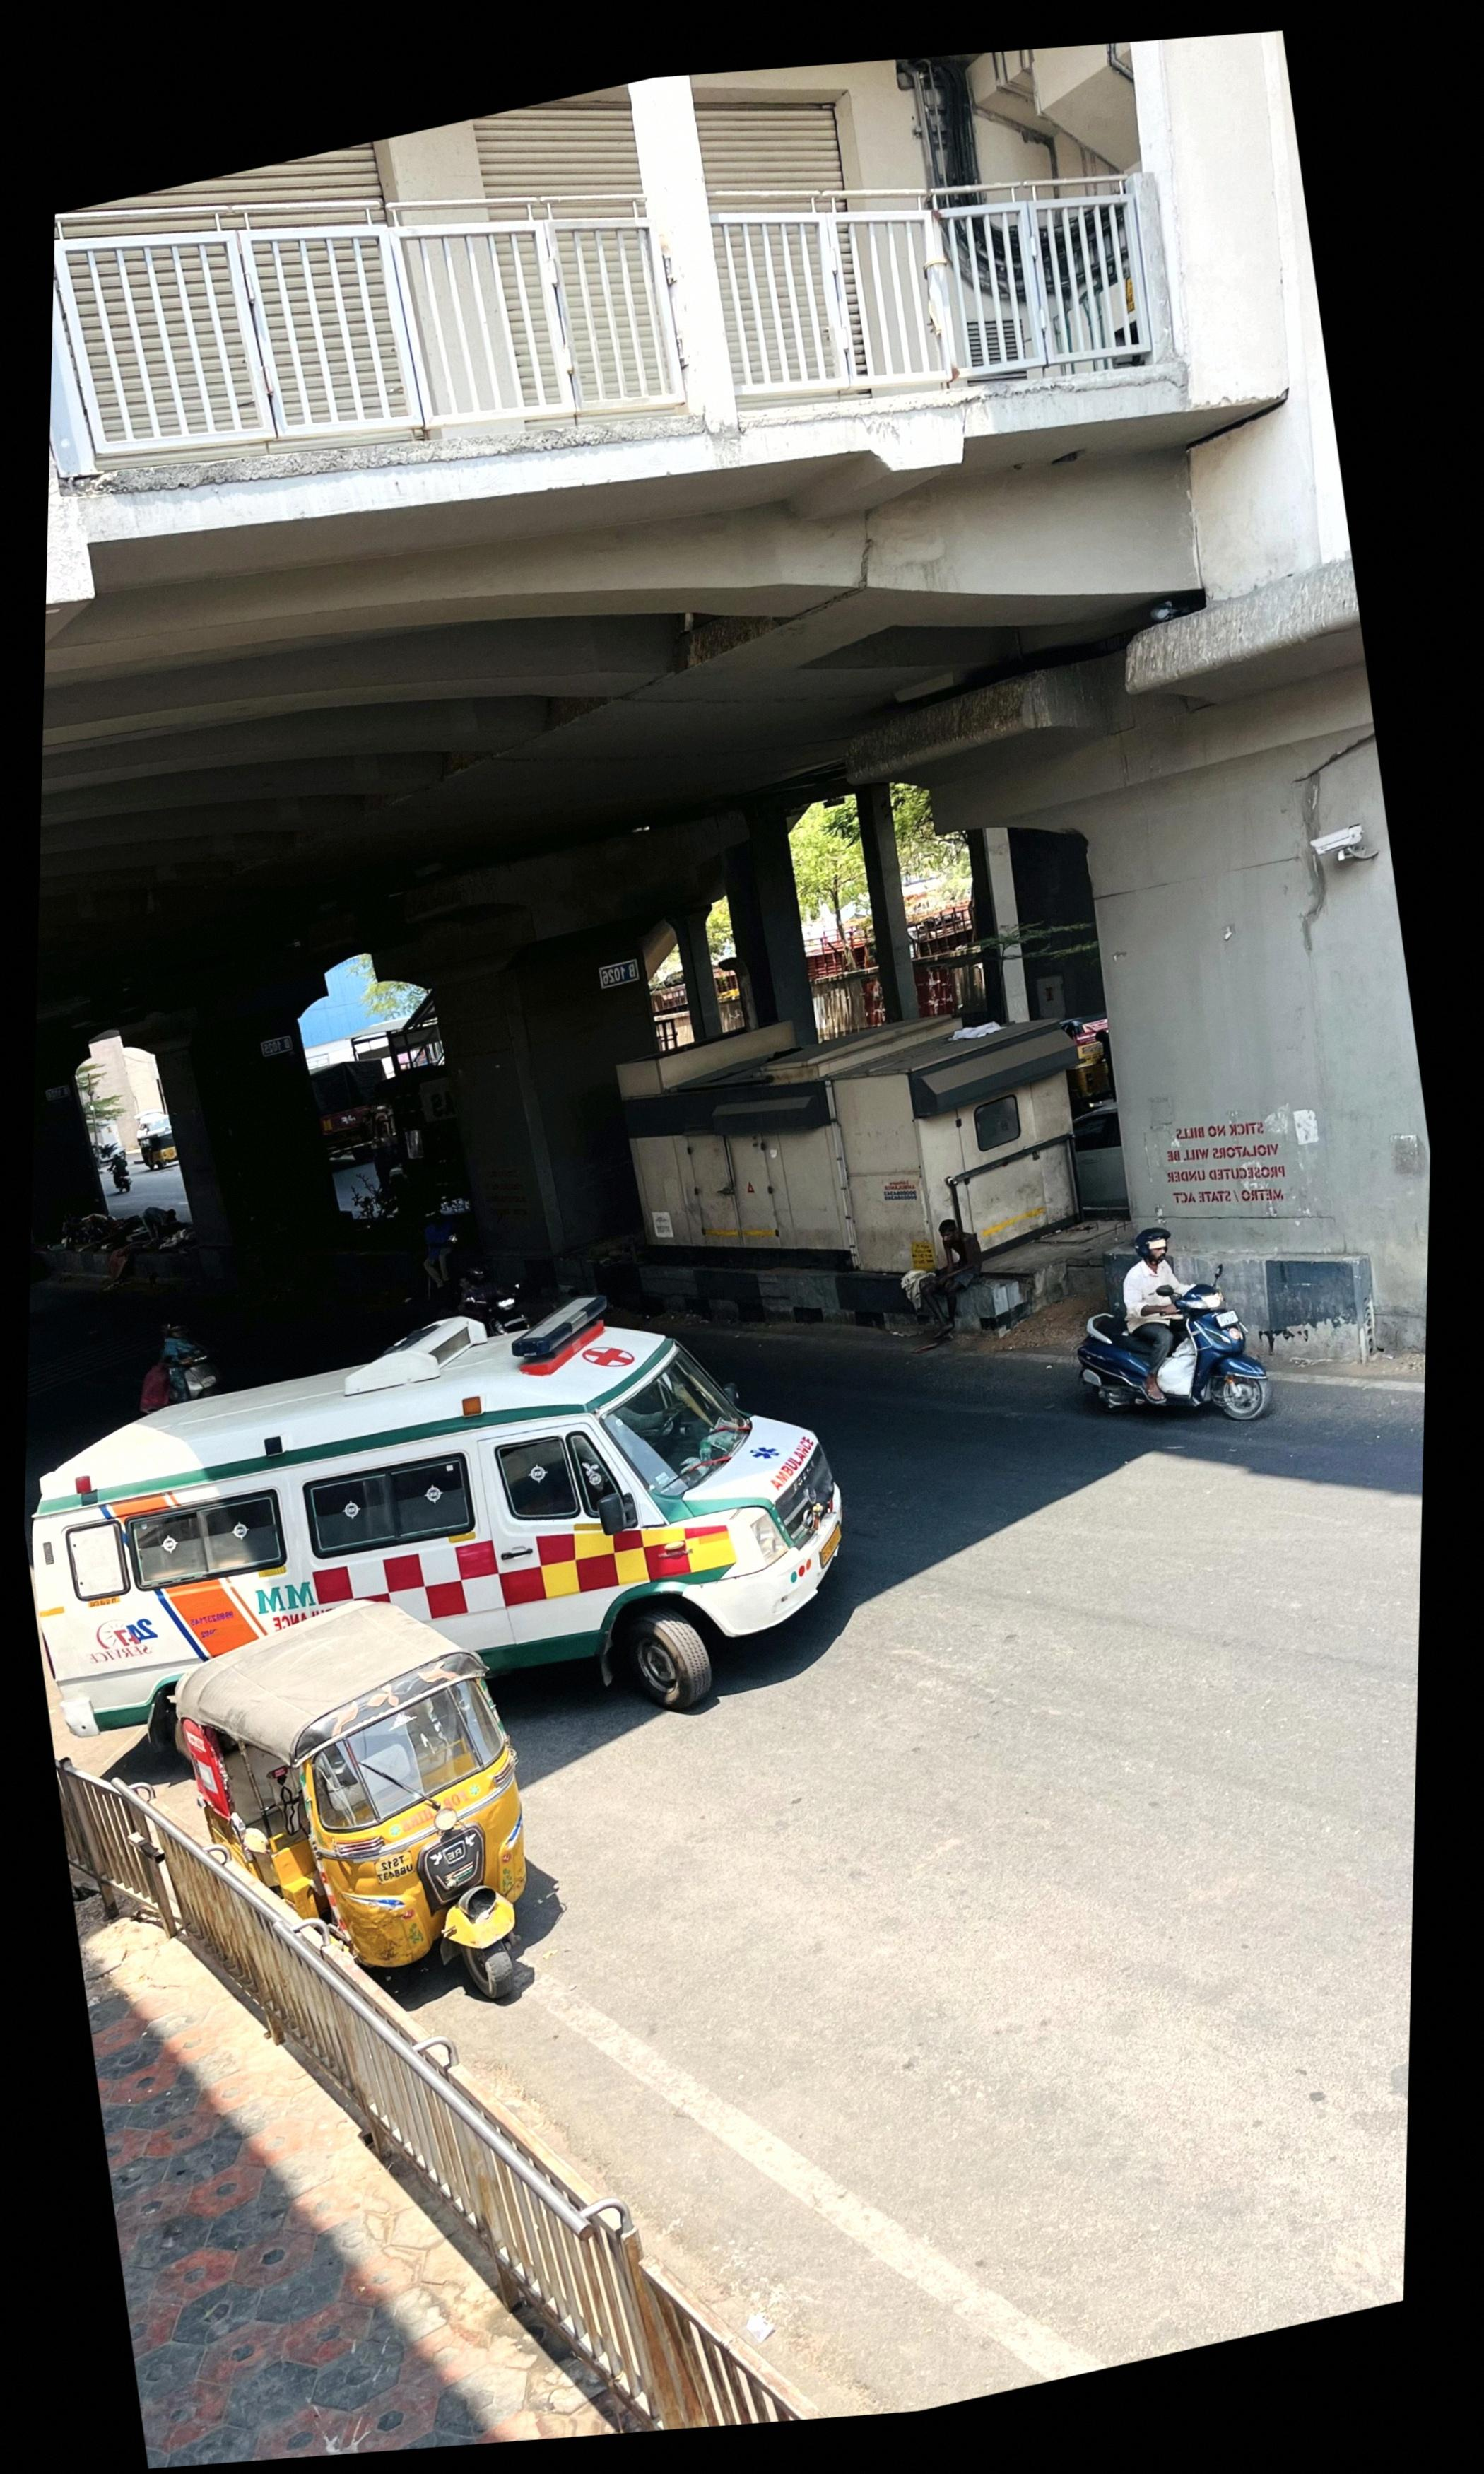ambulance: (35, 1348, 846, 1764)
